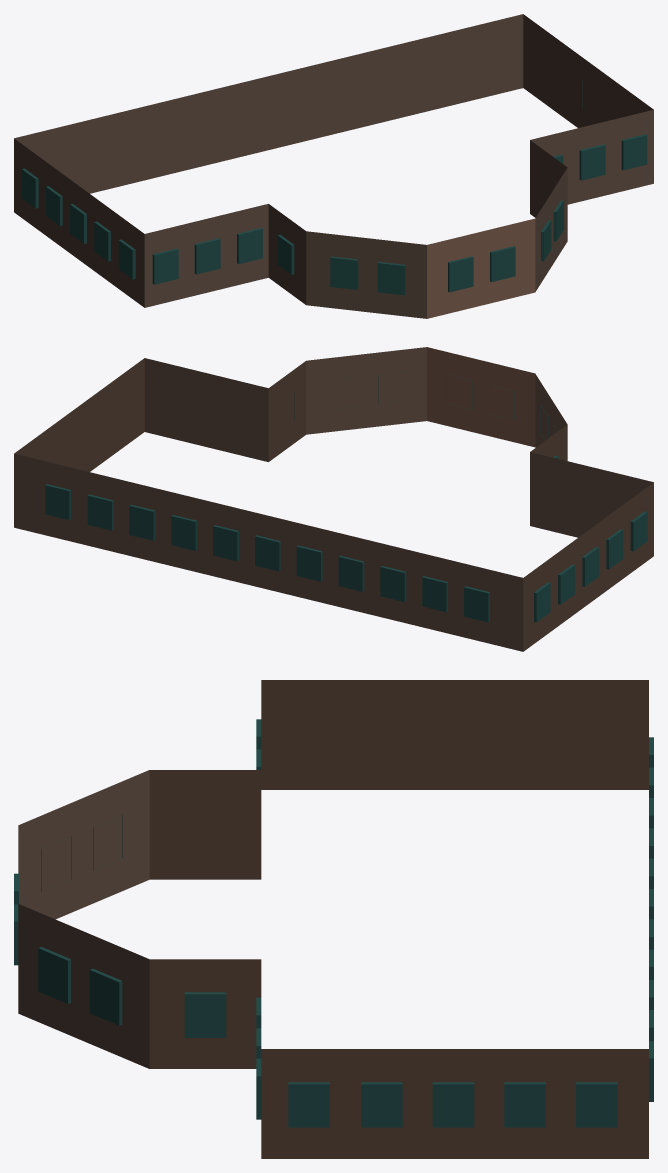
The model's file is TB_CITY_Skysc_O_BodyA_Brown.FBX.
3 views of the same model, one above another, from view 1: azimuth 30°, elevation 25°; view 2: azimuth 150°, elevation 25°; view 3: azimuth 270°, elevation 25° (orthographic). The views are drawn at different scales.
Parts seen in each view (by area): view 1: TB_CITY_Skysc_O_BodyA_Brown; view 2: TB_CITY_Skysc_O_BodyA_Brown; view 3: TB_CITY_Skysc_O_BodyA_Brown.
Boxes of the visible parts, x1,y1,x2,y2 form: TB_CITY_Skysc_O_BodyA_Brown: (14, 14, 653, 318); TB_CITY_Skysc_O_BodyA_Brown: (14, 347, 653, 651); TB_CITY_Skysc_O_BodyA_Brown: (14, 680, 653, 1158).
Size of the model in its own units: 36.39 by 5 by 26.39.
